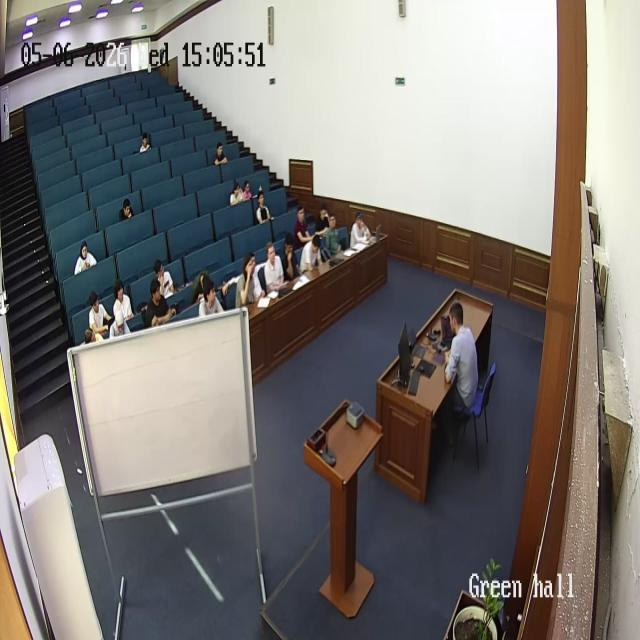person: (442, 300, 478, 416), (144, 278, 176, 326), (236, 252, 260, 310), (88, 292, 114, 340), (264, 241, 286, 293), (112, 279, 134, 328), (300, 233, 324, 277), (198, 278, 224, 318), (281, 233, 301, 283), (322, 213, 342, 259), (154, 258, 176, 298), (350, 212, 372, 248), (294, 204, 312, 247), (74, 242, 96, 276), (255, 191, 272, 225), (319, 196, 331, 238), (229, 181, 245, 207), (118, 198, 134, 222), (214, 142, 228, 166), (240, 180, 253, 202), (140, 131, 152, 153)
